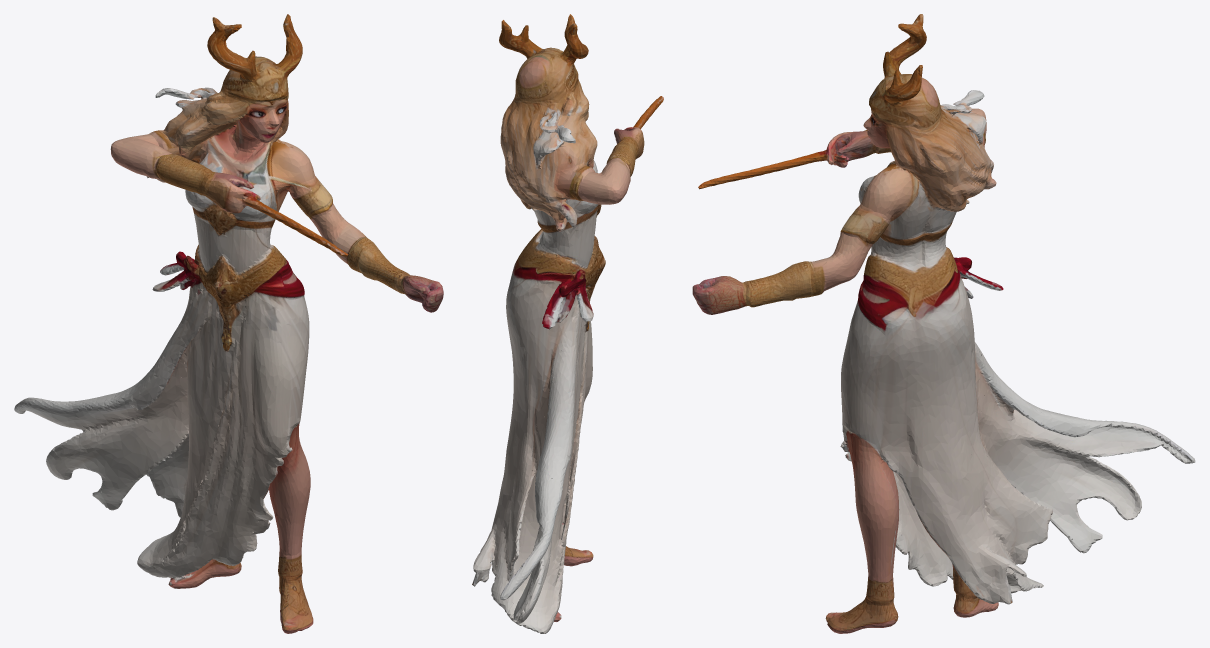
3 views of the same model, side by side, from view 1: azimuth 30°, elevation 25°; view 2: azimuth 150°, elevation 25°; view 3: azimuth 270°, elevation 25° (orthographic). The views are drawn at different scales.
Visible parts, largest first — view 1: textured_mesh.obj; view 2: textured_mesh.obj; view 3: textured_mesh.obj.
Part boxes in pixels (bbox=[...]): textured_mesh.obj: bbox=[14, 14, 443, 633]; textured_mesh.obj: bbox=[472, 14, 663, 633]; textured_mesh.obj: bbox=[692, 14, 1195, 633].
Size of the model in its own units: 0.6911 by 1.99 by 1.52.
Materials: 1 (1 with a texture image).
